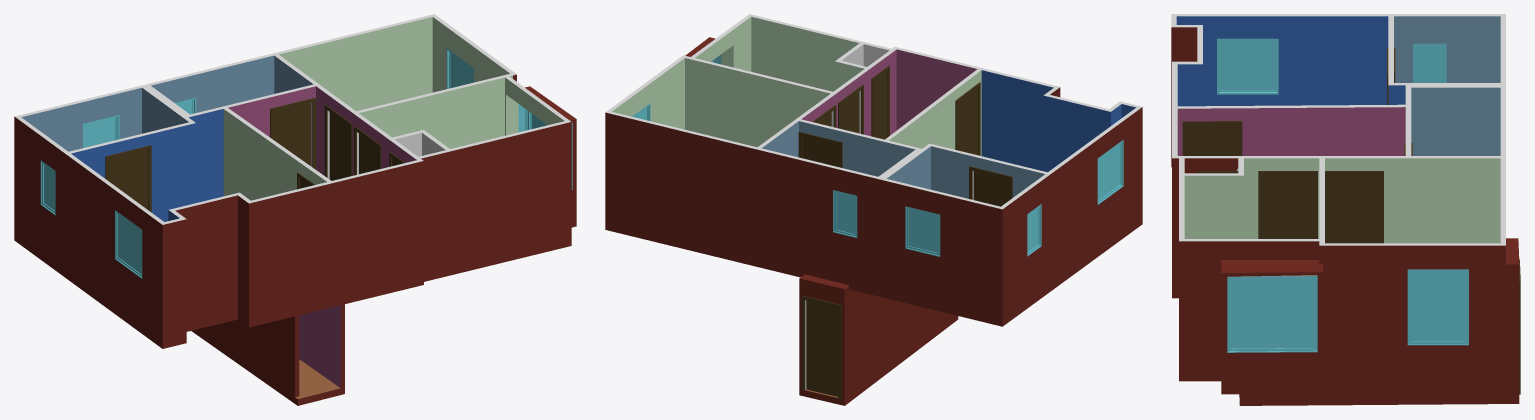
File: building-model.glb
3 renders of one model, left to right at view 1: azimuth 30°, elevation 25°; view 2: azimuth 150°, elevation 25°; view 3: azimuth 270°, elevation 25°, orthographic. The views are drawn at different scales.
Visible parts, largest first — view 1: Basic Wall Ogólne - 100 mm [330647], Basic Wall Ogólne - 100 mm [334009], Basic Wall Ogólne - 100 mm [329403], Basic Wall Ogólne - 100 mm [330083], Floor Ogólne 300 mm [332638], Basic Wall Ogólne - 100 mm [331232], Basic Wall Ogólne - 100 mm [329218], Basic Wall Ogólne - 100 mm [328606], Basic Wall Ogólne - 100 mm [331496], Basic Wall Ogólne - 100 mm [330836], Basic Wall Ogólne - 100 mm [344436], Basic Wall Ogólne - 100 mm [330971] (+17 smaller); view 2: Basic Wall Ogólne - 100 mm [330083], Basic Wall Ogólne - 100 mm [329403], Basic Wall Ogólne - 100 mm [329655], Basic Wall Ogólne - 100 mm [330647], Basic Wall Ogólne - 100 mm [331232], Floor Ogólne 300 mm [332638], Basic Wall Ogólne - 100 mm [344436], Basic Wall Ogólne - 100 mm [334009], M_Jednoskrzydłowe płytowe 0813 x 2134mm [351472], Basic Wall Ogólne - 100 mm [330971], Basic Wall Ogólne - 100 mm [329218], Basic Wall Ogólne - 100 mm [331496] (+19 smaller); view 3: Basic Wall Ogólne - 100 mm [329403], Basic Wall Ogólne - 100 mm [330253], Basic Wall Ogólne - 100 mm [330971], Basic Wall Ogólne - 100 mm [328606], M_Stałe 1610 x 1500mm [342465], Basic Wall Ogólne - 200 mm [329814], Basic Wall Ogólne - 100 mm [337798], Floor Ogólne 300 mm [332638], M_Stałe 1100 x 1500mm [341351], Basic Wall Ogólne - 100 mm [344661], M_Jednoskrzydłowe płytowe 0915 x 2134mm [333427], M_Jednoskrzydłowe płytowe 0915 x 2134mm [333117] (+22 smaller).
Boxes of the visible parts, x1,y1,x2,y2 form: Basic Wall Ogólne - 100 mm [330647]: (251,160,419,312); Basic Wall Ogólne - 100 mm [334009]: (418,121,567,268); Basic Wall Ogólne - 100 mm [329403]: (14,115,163,333); Basic Wall Ogólne - 100 mm [330083]: (148,14,436,112); Floor Ogólne 300 mm [332638]: (14,213,576,348); Basic Wall Ogólne - 100 mm [331232]: (356,73,512,148); Basic Wall Ogólne - 100 mm [329218]: (173,192,241,318); Basic Wall Ogólne - 100 mm [328606]: (223,108,330,200); Basic Wall Ogólne - 100 mm [331496]: (68,121,195,221); Basic Wall Ogólne - 100 mm [330836]: (186,84,315,202); Basic Wall Ogólne - 100 mm [344436]: (198,315,299,396); Basic Wall Ogólne - 100 mm [330971]: (274,54,423,272); Basic Wall Ogólne - 100 mm [330083]: (605,111,877,282); Basic Wall Ogólne - 100 mm [329403]: (998,107,1140,313); Basic Wall Ogólne - 100 mm [329655]: (884,179,1000,312); Basic Wall Ogólne - 100 mm [330647]: (896,47,1055,170); Basic Wall Ogólne - 100 mm [331232]: (685,56,832,147); Floor Ogólne 300 mm [332638]: (605,212,1142,326); Basic Wall Ogólne - 100 mm [344436]: (840,288,954,399); Basic Wall Ogólne - 100 mm [334009]: (751,15,891,91); M_Jednoskrzydłowe płytowe 0813 x 2134mm [351472]: (801,295,841,399); Basic Wall Ogólne - 100 mm [330971]: (758,46,898,157); Basic Wall Ogólne - 100 mm [329218]: (1043,94,1108,172); Basic Wall Ogólne - 100 mm [331496]: (927,143,1047,199); Basic Wall Ogólne - 100 mm [329403]: (1176,14,1505,106); Basic Wall Ogólne - 100 mm [330253]: (1319,243,1500,370); Basic Wall Ogólne - 100 mm [330971]: (1172,156,1500,282); Basic Wall Ogólne - 100 mm [328606]: (1177,104,1405,155); M_Stałe 1610 x 1500mm [342465]: (1227,276,1317,352); Basic Wall Ogólne - 200 mm [329814]: (1411,83,1505,155); Basic Wall Ogólne - 100 mm [337798]: (1179,239,1226,366); Floor Ogólne 300 mm [332638]: (1171,152,1505,394); M_Stałe 1100 x 1500mm [341351]: (1407,269,1468,345); Basic Wall Ogólne - 100 mm [344661]: (1239,267,1519,398); M_Jednoskrzydłowe płytowe 0915 x 2134mm [333427]: (1325,171,1383,243); M_Jednoskrzydłowe płytowe 0915 x 2134mm [333117]: (1258,171,1317,238).
Bounding box in the file's own units: 10.15 × 5.41 × 6.24.
